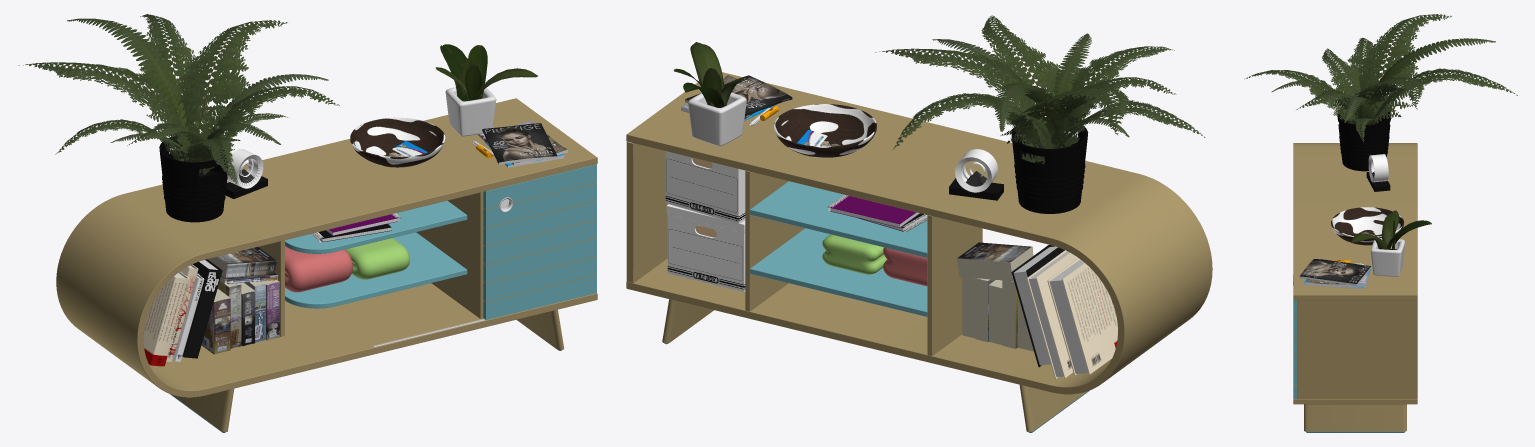
3 renders of one model, left to right at view 1: azimuth 30°, elevation 25°; view 2: azimuth 150°, elevation 25°; view 3: azimuth 270°, elevation 25°, orthographic. The views are drawn at different scales.
Parts seen in each view (by area): view 1: FoyerTable, Plant_Large, TableDoor, Plant_Small, Bowl, Book_TheArt, Towel_Red, Magazine_Prestige, Towel_Green, Book_Fashion, Book_BadRocks, Calendar (+9 smaller); view 2: FoyerTable, Plant_Large, Book_TheArt, FileboxA, FileboxB, Plant_Small, Bowl, Book_Cabinet, Book_BadRocks, Book_Fashion, Calendar, Towel_Green (+7 smaller); view 3: FoyerTable, Plant_Large, Plant_Small, Bowl, Magazine_Prestige, Calendar, TableDoor, Magazine_DixSept.
Boxes of the visible parts, x1,y1,x2,y2 form: FoyerTable: (56,98,597,432); Plant_Large: (18,14,339,222); TableDoor: (483,164,596,319); Plant_Small: (435,44,537,136); Bowl: (350,117,445,167); Book_TheArt: (143,272,189,366); Towel_Red: (285,246,352,292); Magazine_Prestige: (482,123,557,164); Towel_Green: (345,238,409,279); Book_Fashion: (182,259,222,358); Book_BadRocks: (207,247,276,278); Calendar: (225,149,267,198); FoyerTable: (626,72,1212,432); Plant_Large: (875,15,1205,213); Book_TheArt: (1047,258,1117,375); FileboxA: (666,204,745,292); FileboxB: (665,151,749,224); Plant_Small: (673,42,746,146); Bowl: (774,104,876,157); Book_Cabinet: (1026,250,1077,378); Book_BadRocks: (957,242,1033,277); Book_Fashion: (1011,245,1064,367); Calendar: (949,149,1003,200); Towel_Green: (822,234,886,274); FoyerTable: (1293,143,1417,432); Plant_Large: (1244,14,1517,171); Plant_Small: (1351,210,1431,276); Bowl: (1331,207,1404,245); Magazine_Prestige: (1299,259,1371,286); Calendar: (1366,154,1390,191); TableDoor: (1293,275,1297,398); Magazine_DixSept: (1306,271,1368,286).
Bounding box in the file's own units: 207 × 134 × 130.
33 materials, 22 textured.
